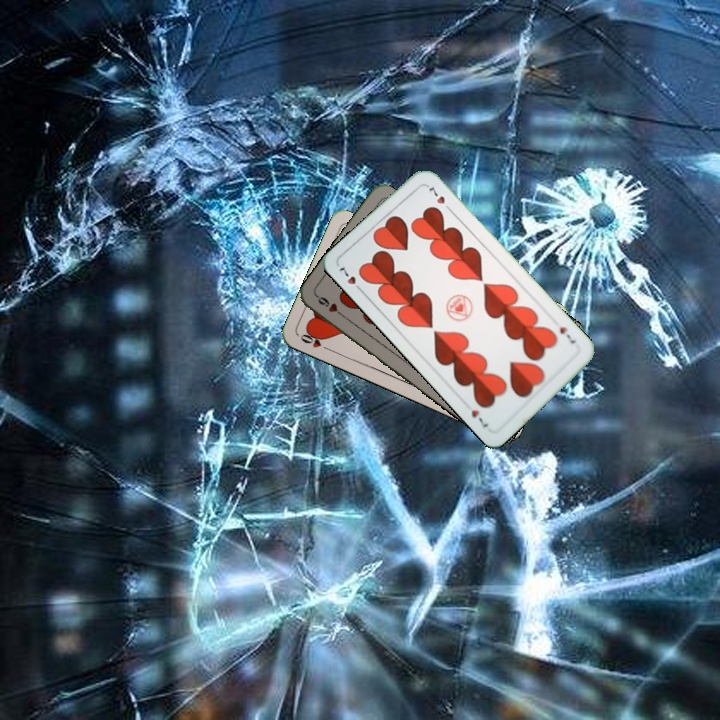H7: (335, 263, 366, 295), (555, 322, 578, 347)
H9: (313, 291, 348, 320)
HO: (296, 328, 334, 353)
